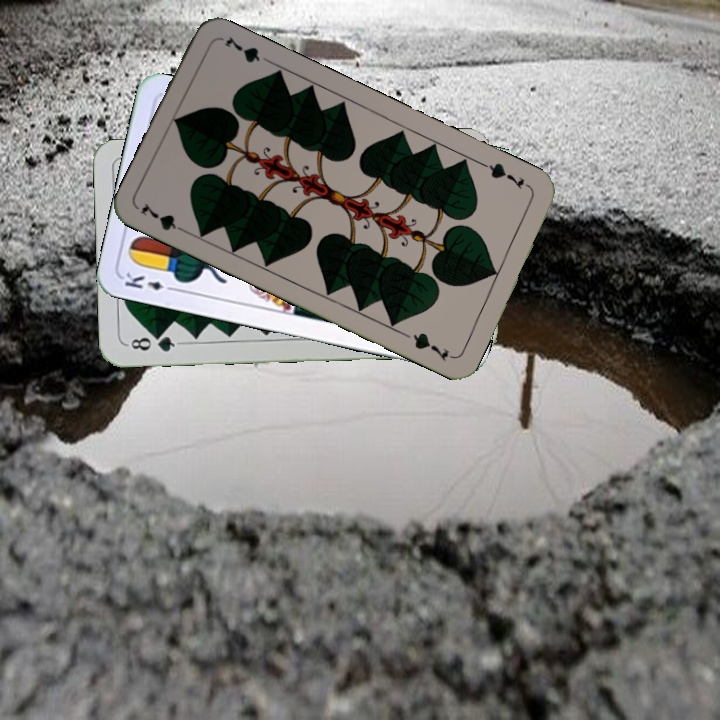EK: (120, 269, 179, 294)
G7: (136, 198, 191, 237), (479, 158, 534, 192)
G8: (123, 331, 183, 355)
